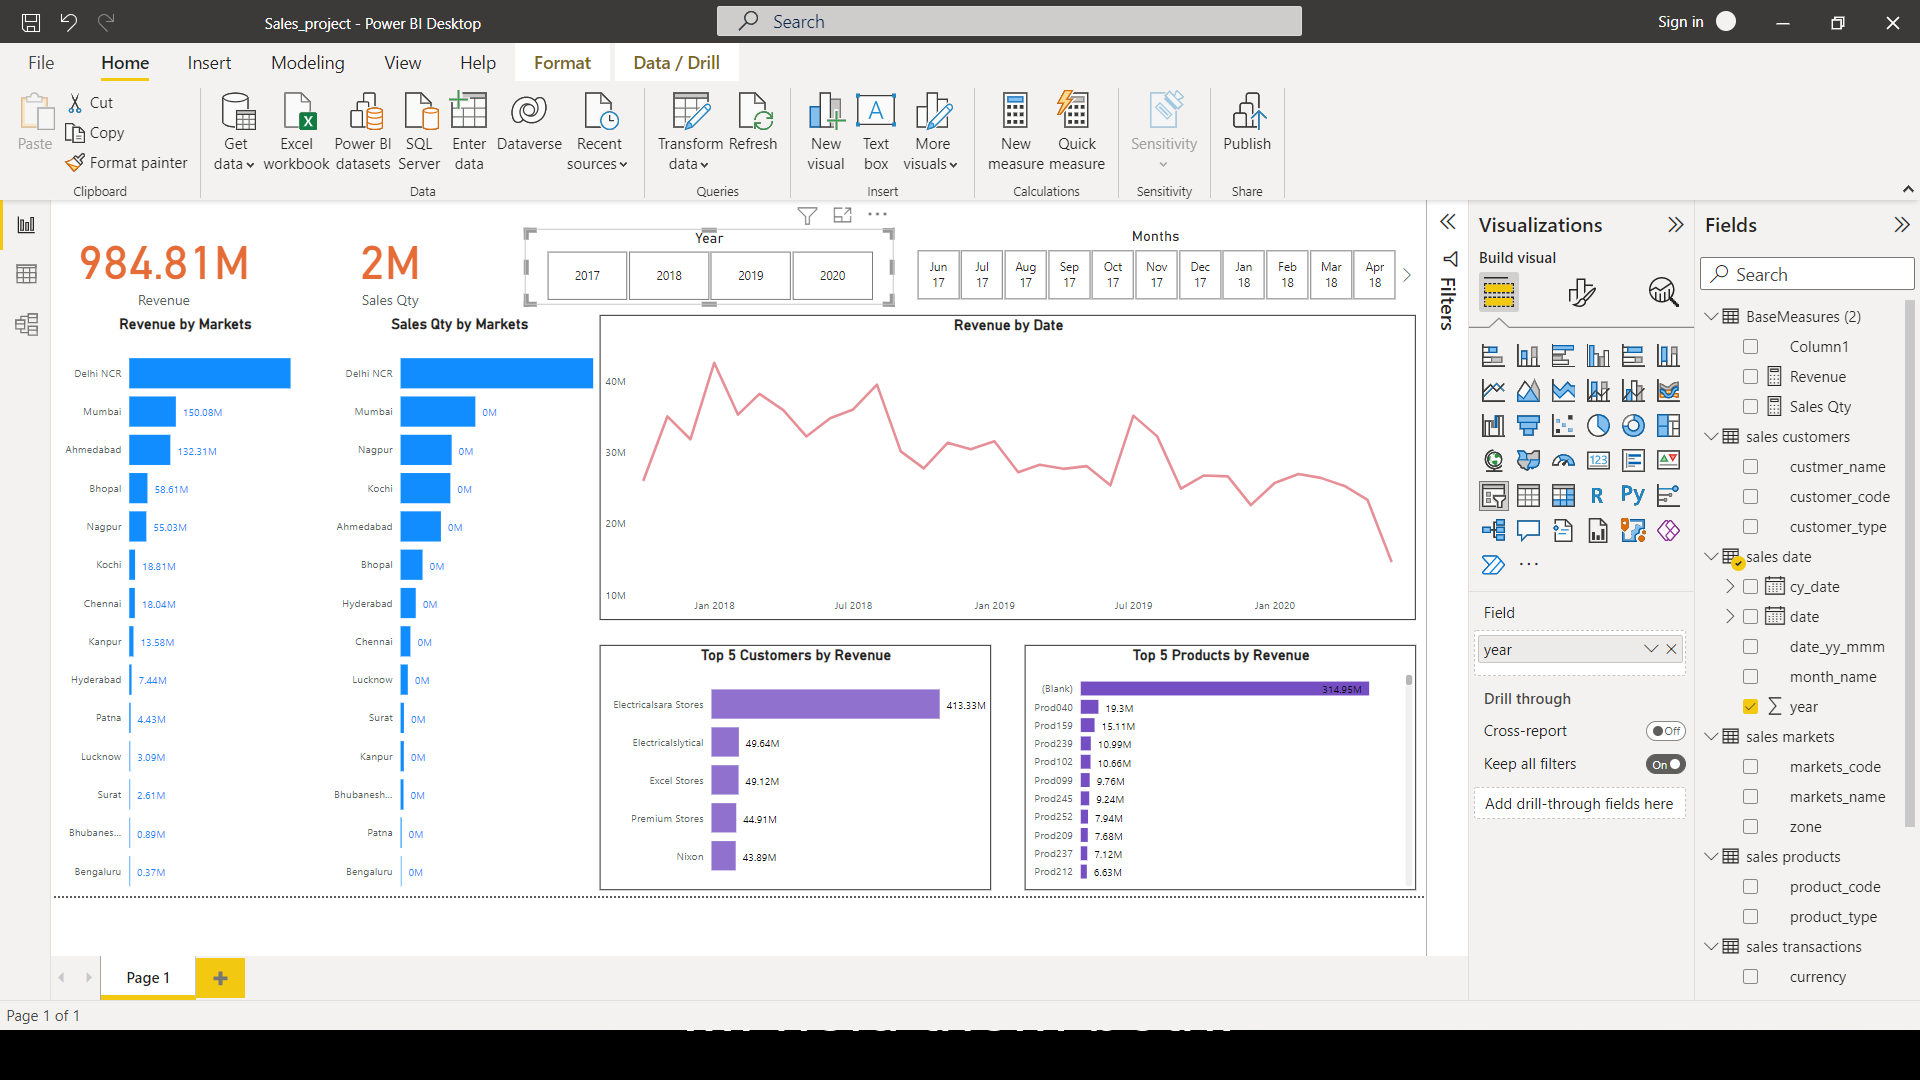

What the dashboard file says about the page in this screenshot:
{"tool":"powerbi","page":{"name":"Page 1","canvas":[1580,800],"ordinal":0},"visuals":[{"type":"card","fields":{"Values":["BaseMeasures (2).Revenue"]},"box":[0,0,259.6,152.4],"z":0},{"type":"card","fields":{"Values":["BaseMeasures (2).Sales Qty"]},"box":[259.6,0,259.6,152.4],"z":1000},{"type":"barChart","title":"Revenue by Markets","fields":{"Y":["BaseMeasures (2).Revenue"],"Category":["sales markets.markets_name"]},"box":[0,132.1,308.8,679.4],"z":2000},{"type":"barChart","title":"Sales Qty by Markets","fields":{"Y":["BaseMeasures (2).Sales Qty"],"Category":["sales markets.markets_name"]},"box":[308.8,132.1,321.7,679.4],"z":3000},{"type":"slicer","title":"Year","fields":{"Values":["sales date.year"]},"box":[545,32.5,423.7,88.8],"z":4000},{"type":"slicer","title":"Months","fields":{"Values":["sales date.cy_date"]},"box":[969.1,31.2,599.6,89],"z":5000},{"type":"barChart","title":"Top 5 Customers by Revenue","fields":{"Y":["BaseMeasures (2).Revenue"],"Category":["sales customers.custmer_name"]},"box":[630.5,510.9,449.3,281.9],"z":6000},{"type":"barChart","title":"Top 5 Products by Revenue","fields":{"Y":["BaseMeasures (2).Revenue"],"Category":["sales products.product_code"]},"box":[1118.9,511.3,449.6,281.5],"z":6001},{"type":"lineChart","title":"Revenue by Date","fields":{"Category":["sales date.cy_date"],"Y":["BaseMeasures (2).Revenue"]},"box":[630.6,132.1,937.9,350.5],"z":6002}]}

Visuals, with their boxes on the page's 1580x800 design canvas (x1, y1, x2, y2). These are canvas units, not pixel positions in the 1920x1080 screenshot, which may show the page scaled, cropped or inside an application window:
card - BaseMeasures (2).Revenue: 0, 0, 260, 152
card - BaseMeasures (2).Sales Qty: 260, 0, 519, 152
"Revenue by Markets" barChart: 0, 132, 309, 812
"Sales Qty by Markets" barChart: 309, 132, 630, 812
"Year" slicer: 545, 32, 969, 121
"Months" slicer: 969, 31, 1569, 120
"Top 5 Customers by Revenue" barChart: 630, 511, 1080, 793
"Top 5 Products by Revenue" barChart: 1119, 511, 1568, 793
"Revenue by Date" lineChart: 631, 132, 1568, 483
